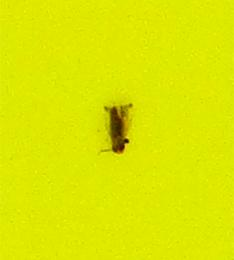Hemiptera: (100, 100, 134, 160)
